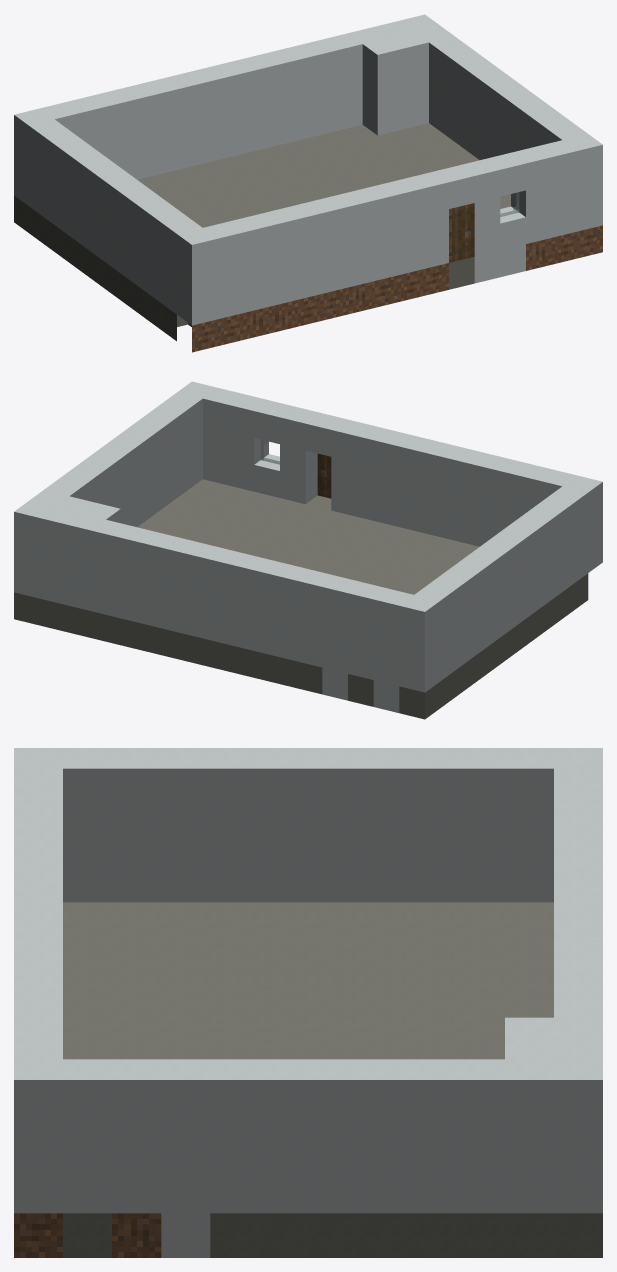
The model's file is Maquete_Maria Luisa Soares Ferreira.glb.
3 views of the same model, one above another, from view 1: azimuth 30°, elevation 25°; view 2: azimuth 150°, elevation 25°; view 3: azimuth 270°, elevation 25° (orthographic). The views are drawn at different scales.
Visible parts, largest first — view 1: node_5, node_6, node_2, node_3, node_4; view 2: node_5, node_6, node_2, node_3, node_4; view 3: node_5, node_6, node_2, node_3.
Boxes of the visible parts, x1,y1,x2,y2 form: node_5: (88, 159, 500, 352); node_6: (14, 39, 395, 275); node_2: (396, 69, 602, 277); node_3: (322, 14, 498, 174); node_4: (449, 203, 474, 262); node_5: (214, 406, 602, 664); node_6: (116, 526, 499, 719); node_2: (88, 381, 294, 545); node_3: (14, 457, 130, 644); node_4: (317, 453, 331, 498); node_5: (14, 748, 357, 1059); node_6: (357, 748, 602, 1059); node_2: (14, 997, 357, 1257); node_3: (357, 997, 602, 1257).
Bounding box in the file's own units: 16 × 4 × 12.
Materials: 3 (3 with a texture image).
